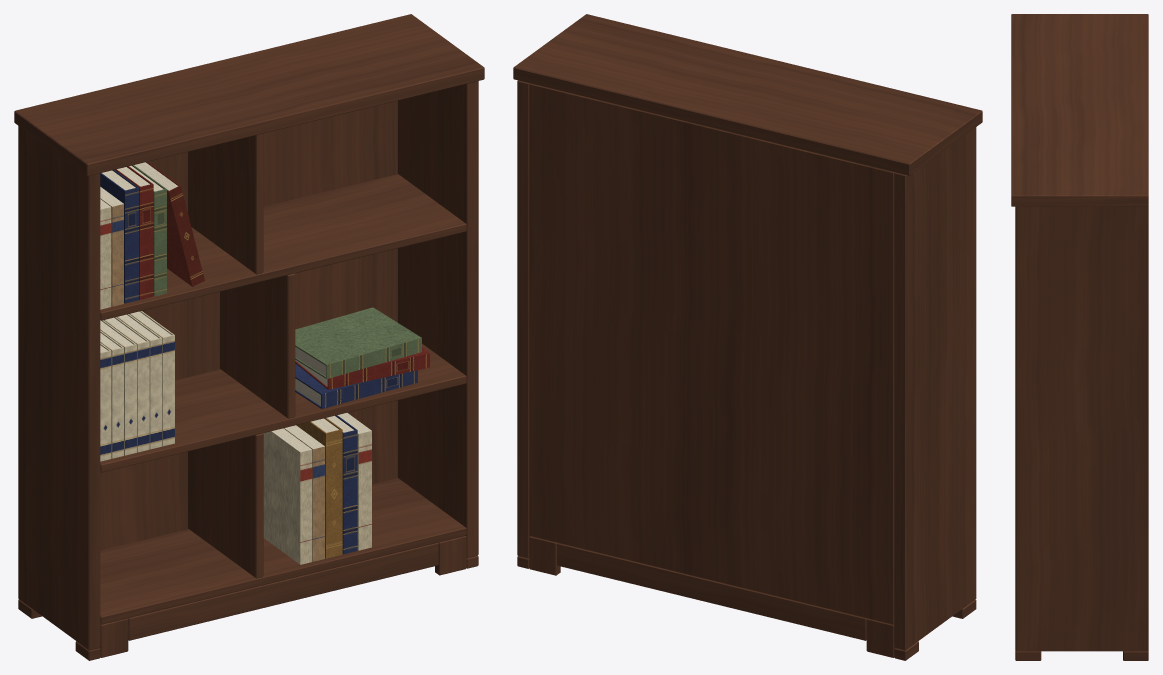
File: 05_Librero.fbx
The picture shows the model from 3 angles, left to right: view 1: azimuth 30°, elevation 25°; view 2: azimuth 150°, elevation 25°; view 3: azimuth 270°, elevation 25°; orthographic projection. The views are drawn at different scales.
Parts seen in each view (by area): view 1: SM_05_Librero, SM_05_Libros; view 2: SM_05_Librero; view 3: SM_05_Librero.
Part boxes in pixels (bbox=[...]): SM_05_Librero: bbox=[14, 14, 484, 660]; SM_05_Libros: bbox=[100, 161, 429, 564]; SM_05_Librero: bbox=[513, 14, 982, 660]; SM_05_Librero: bbox=[1011, 14, 1148, 660].
Bounding box in the file's own units: 1 × 1.2 × 0.32.
